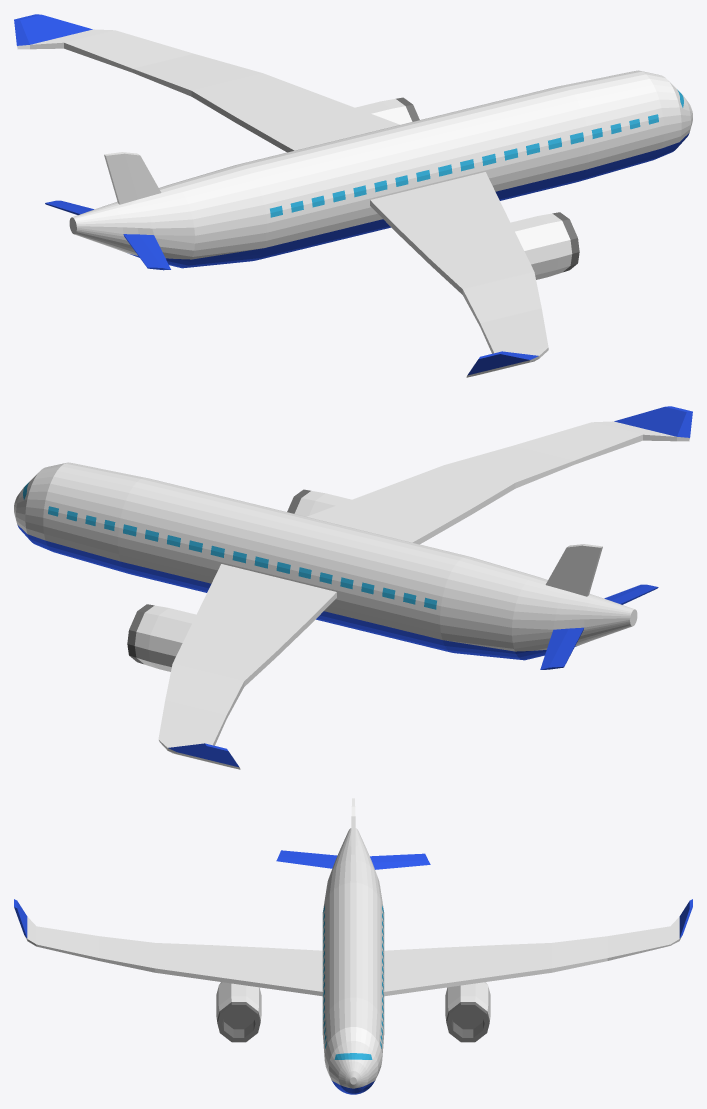
File: airplane.gltf
3 views of the same model, one above another, from view 1: azimuth 30°, elevation 25°; view 2: azimuth 150°, elevation 25°; view 3: azimuth 270°, elevation 25° (orthographic). The views are drawn at different scales.
Visible parts, largest first — view 1: 飛行機; view 2: 飛行機; view 3: 飛行機.
Boxes of the visible parts, box(x1,y1,x2,y2) form: 飛行機: box(14, 14, 692, 377); 飛行機: box(14, 406, 692, 769); 飛行機: box(14, 798, 692, 1094).
Size of the model in its own units: 42.18 by 9.71 by 54.93.
Materials: 1 (1 with a texture image).
